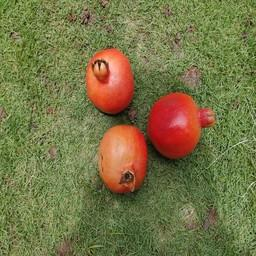pomegranate: (148, 92, 217, 161), (85, 46, 136, 116), (97, 124, 148, 194)
